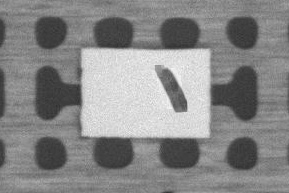DIE_INK: (153, 63, 187, 111)
